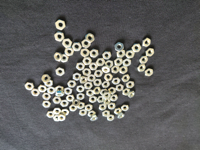nut: (55, 19, 66, 31), (54, 31, 64, 42), (72, 41, 82, 52), (62, 38, 72, 48), (41, 74, 51, 84), (56, 67, 65, 77), (90, 48, 99, 58), (82, 39, 91, 49), (143, 38, 152, 48), (115, 42, 124, 52), (125, 50, 135, 59), (102, 51, 112, 60), (119, 66, 129, 75), (42, 92, 52, 101), (47, 86, 57, 95), (84, 81, 93, 91), (104, 73, 114, 82), (76, 101, 86, 110), (112, 76, 121, 86), (76, 62, 85, 71), (65, 47, 74, 56), (132, 43, 141, 52), (146, 48, 155, 57), (117, 49, 126, 58), (115, 57, 124, 66), (111, 65, 120, 74), (80, 76, 89, 85), (47, 86, 56, 95), (114, 107, 123, 116), (93, 87, 102, 96), (122, 74, 131, 83), (55, 52, 63, 62), (42, 101, 52, 109), (86, 33, 94, 43), (82, 57, 92, 65), (72, 73, 82, 81), (97, 57, 105, 67), (94, 70, 104, 78), (76, 93, 86, 101), (25, 83, 34, 91), (38, 85, 47, 93), (31, 89, 40, 97), (81, 49, 90, 57), (61, 54, 69, 63), (146, 68, 154, 77), (138, 64, 147, 72), (139, 56, 148, 64), (126, 81, 135, 89), (123, 59, 132, 67), (83, 69, 92, 77), (90, 62, 98, 71), (105, 60, 114, 68), (102, 66, 111, 74), (88, 74, 96, 83), (45, 79, 54, 87), (56, 85, 64, 94), (53, 97, 62, 105), (53, 115, 62, 123), (60, 100, 69, 108), (76, 85, 85, 93), (93, 79, 102, 87), (102, 81, 111, 89), (77, 93, 86, 101), (79, 109, 88, 117), (121, 105, 130, 113), (99, 104, 108, 112), (89, 96, 98, 104), (103, 92, 112, 100), (116, 84, 125, 92), (122, 89, 131, 97), (87, 111, 97, 118), (85, 90, 95, 97), (55, 91, 66, 97), (47, 111, 55, 119), (69, 105, 77, 113), (73, 99, 81, 107), (118, 113, 126, 121), (64, 88, 73, 95), (61, 109, 70, 116), (66, 95, 75, 102), (85, 105, 94, 112), (98, 96, 105, 105), (110, 95, 119, 102), (108, 103, 117, 110), (107, 115, 115, 122), (68, 81, 76, 88), (58, 115, 66, 122), (53, 108, 61, 115), (90, 115, 98, 122), (103, 111, 111, 118), (100, 89, 108, 96), (129, 91, 136, 99), (109, 87, 116, 94), (105, 97, 110, 104)
